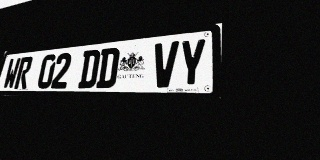0: (36, 54, 57, 89)
2: (51, 52, 73, 89)
D: (96, 47, 120, 88), (77, 49, 101, 88)
R: (14, 56, 33, 89)
V: (151, 41, 179, 88)
W: (2, 58, 21, 89)
Y: (177, 38, 207, 87)
